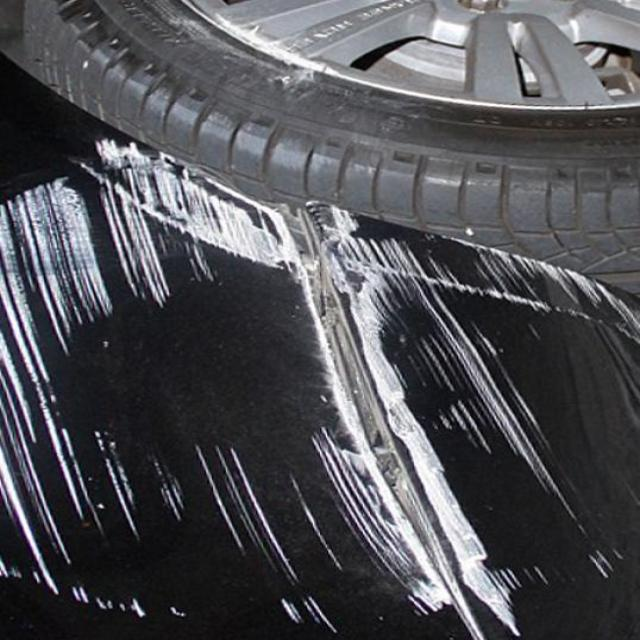scratch: (9, 144, 640, 639)
